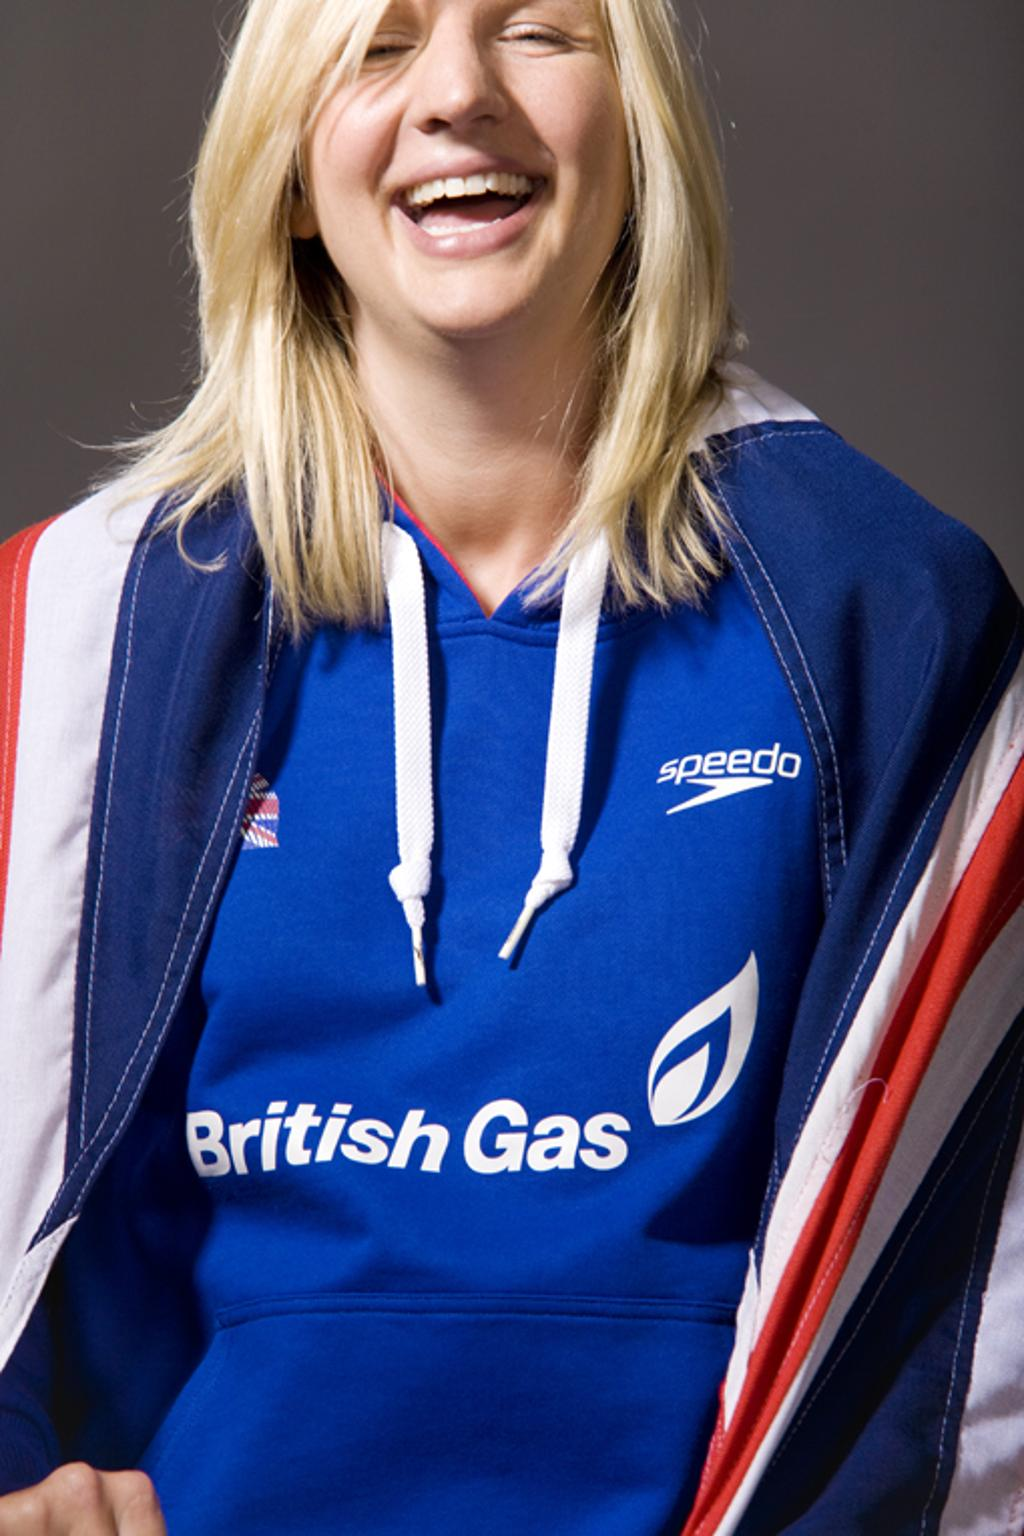face: (300, 6, 627, 324)
